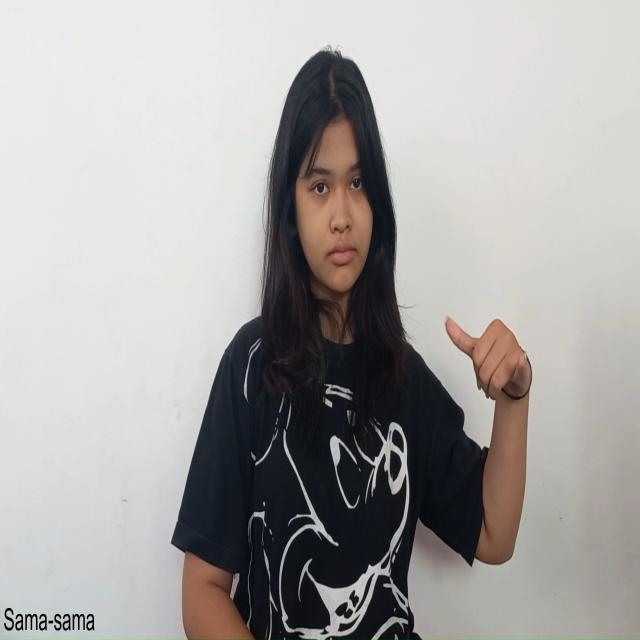Sama-sama -BISINDO-: (443, 311, 534, 409)
